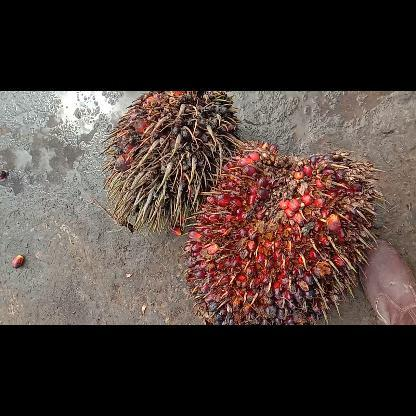TBS abnormal: (100, 91, 240, 235)
TBS masak: (180, 140, 385, 324)
